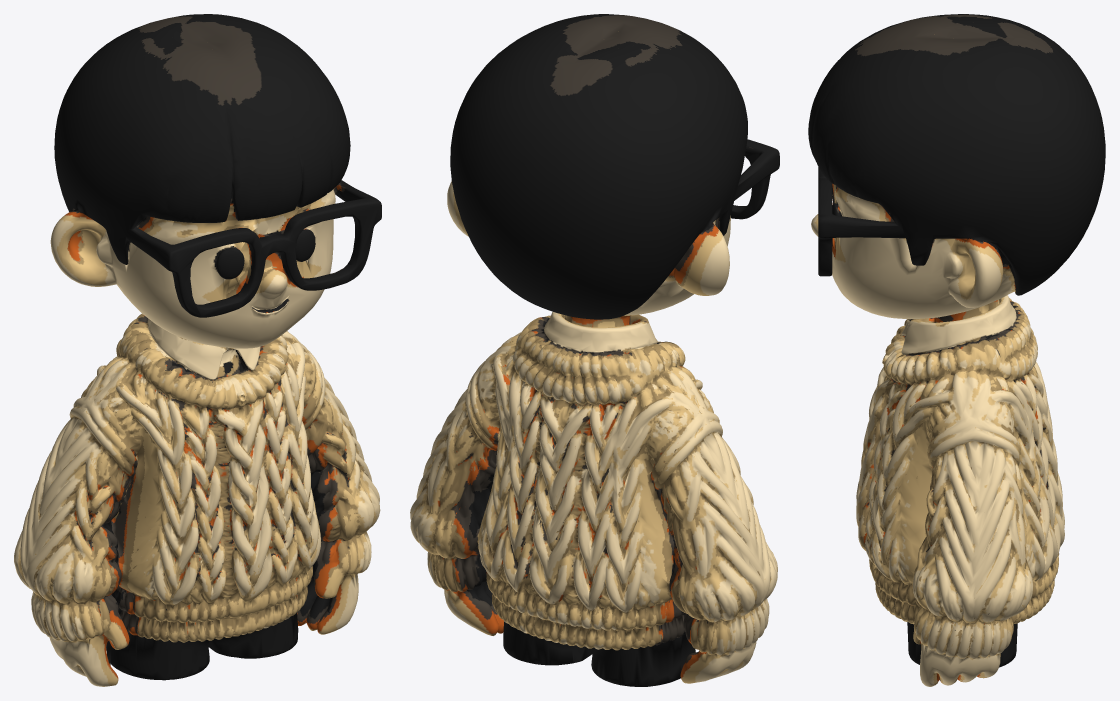
Rendered from sujeto.glb.
The picture shows the model from 3 angles, left to right: view 1: azimuth 30°, elevation 25°; view 2: azimuth 150°, elevation 25°; view 3: azimuth 270°, elevation 25°; orthographic projection. The views are drawn at different scales.
Visible parts, largest first — view 1: node_0; view 2: node_0; view 3: node_0.
Boxes of the visible parts, x1=… form: node_0: x1=14, y1=14, x2=381, y2=686; node_0: x1=410, y1=14, x2=779, y2=686; node_0: x1=808, y1=14, x2=1105, y2=686.
Size of the model in its own units: 0.6557 by 1.12 by 0.5039.
1 material, 1 textured.
